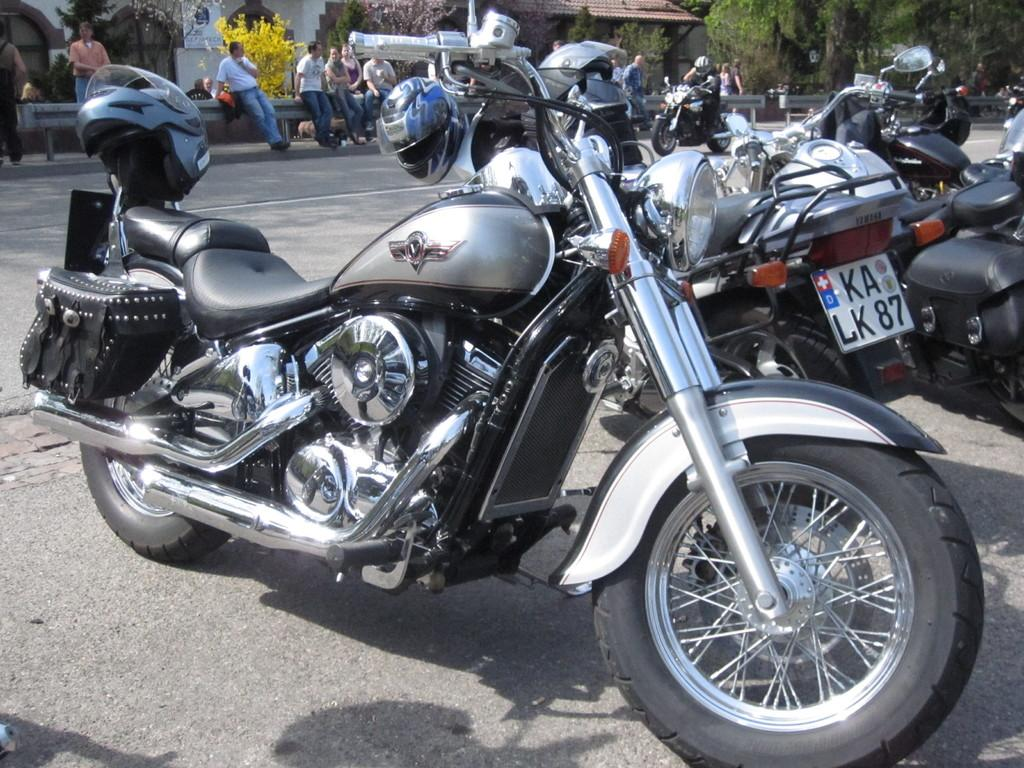helmet: (75, 64, 211, 202), (376, 76, 466, 185), (534, 40, 628, 110), (694, 56, 712, 78)
nohelmet: (228, 40, 246, 60), (78, 20, 94, 41), (307, 40, 323, 60), (328, 46, 341, 62), (341, 43, 352, 59), (634, 54, 645, 68)
